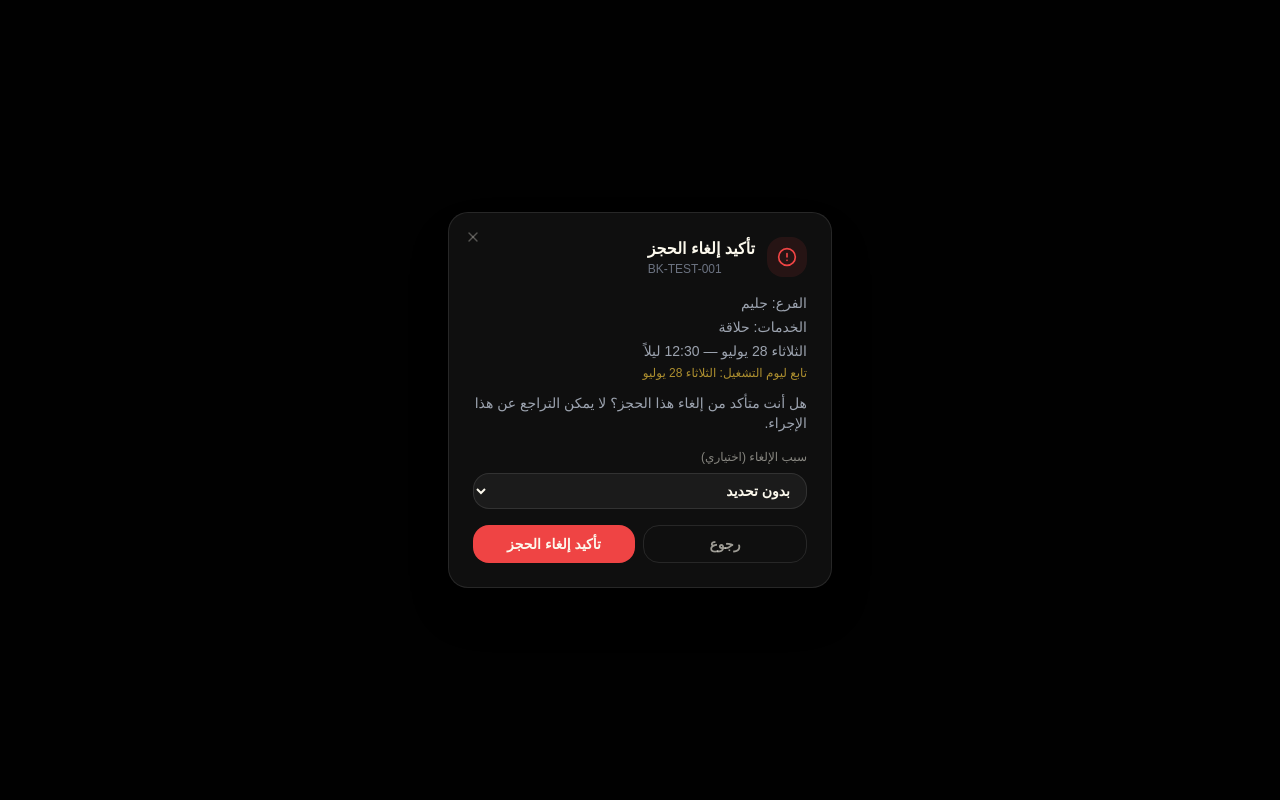
BookingCancelIdempotency / Unknown / Policy › already-cancelled becomes completed UI state
The image size is (1280, 800).
Click the button "تأكيد إلغاء الحجز".
click(554, 544)  # box [473, 525, 635, 563]
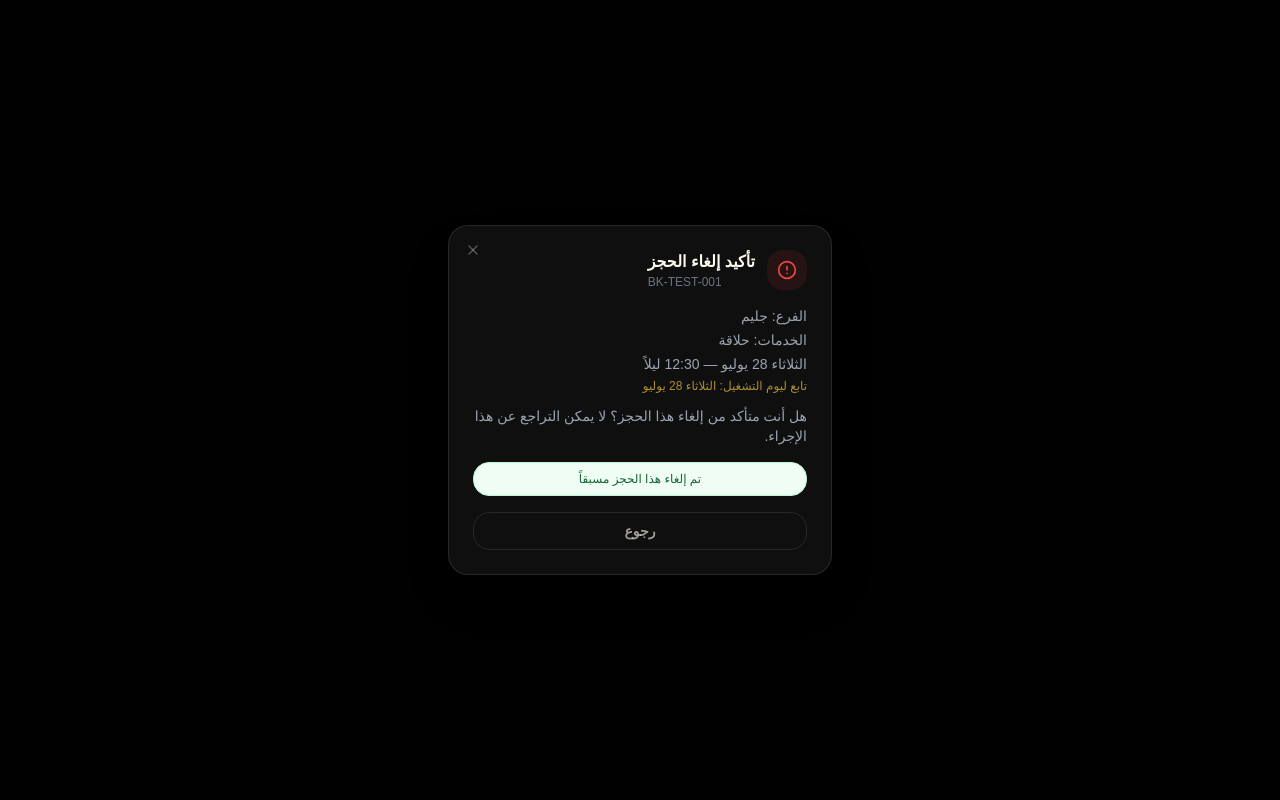
expect the text "تم إلغاء هذا الحجز مسبقاً" is shown: met, box [473, 462, 807, 496]
